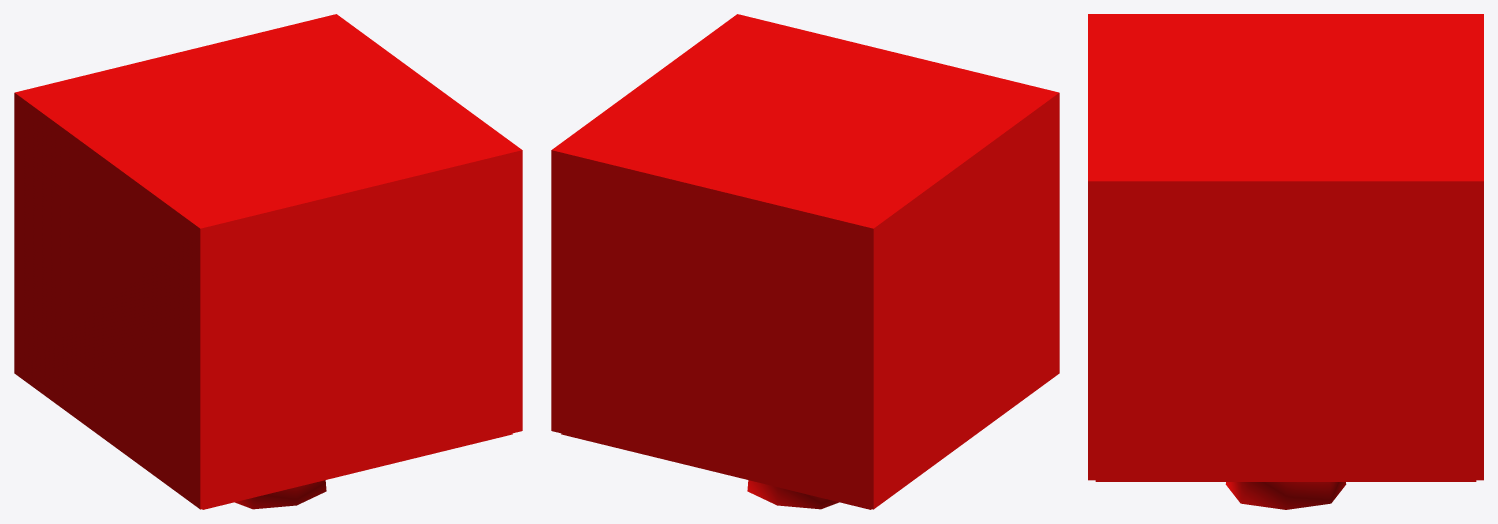
The model's file is sala_pequeña_1.fbx.
3 views of the same model, side by side, from view 1: azimuth 30°, elevation 25°; view 2: azimuth 150°, elevation 25°; view 3: azimuth 270°, elevation 25° (orthographic). The views are drawn at different scales.
Parts seen in each view (by area): view 1: Object001; view 2: Object001; view 3: Object001.
Boxes of the visible parts, box(x1,y1,x2,y2) form: Object001: box(14, 14, 522, 509); Object001: box(551, 14, 1059, 509); Object001: box(1088, 14, 1483, 509).
Size of the model in its own units: 3 by 3.23 by 3.
